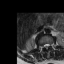CCS_normal: (45, 42, 47, 51)
LFS_normal: (49, 42, 51, 48)
LLS_normal: (47, 42, 49, 49)
RFS_normal: (41, 43, 43, 50)
RLS_normal: (43, 42, 45, 49)
